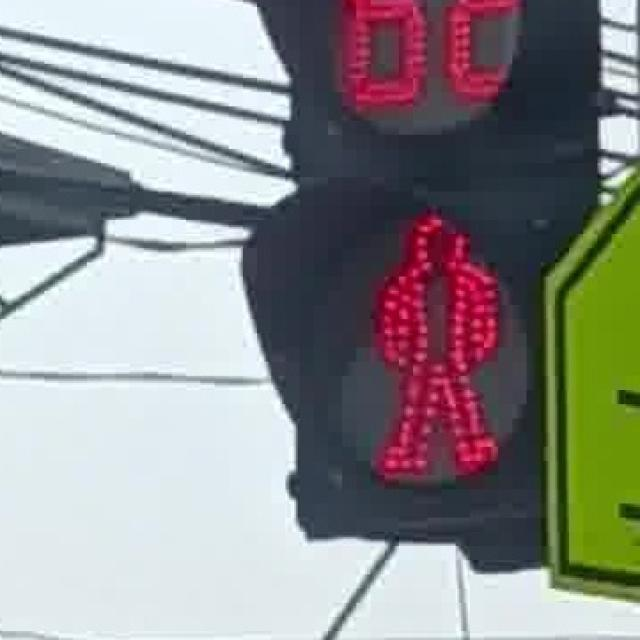red-crossing: (346, 195, 514, 486)
